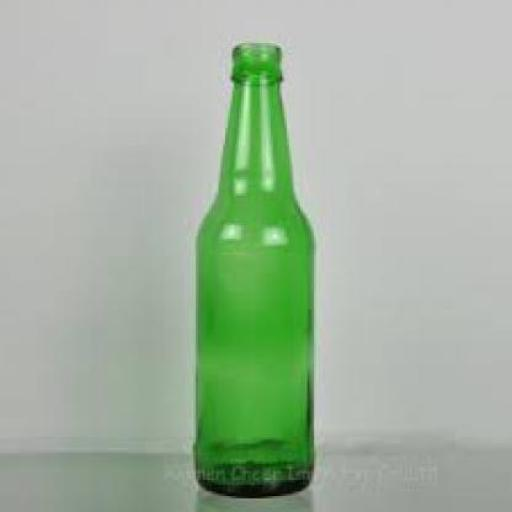glass: (194, 40, 312, 498)
